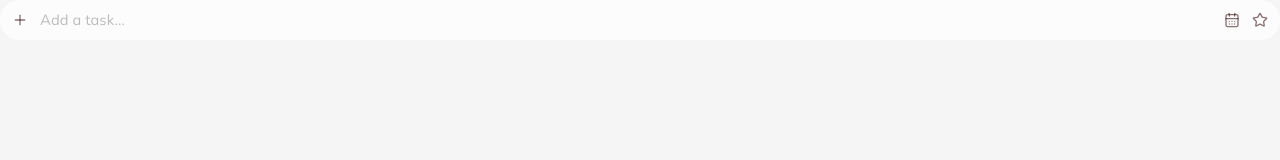
it: QuickAddTask › toggles star state
Later steps or results of the test are not shown.
Click the button named "Star task" at [1260, 20], box [1248,8,1272,32]
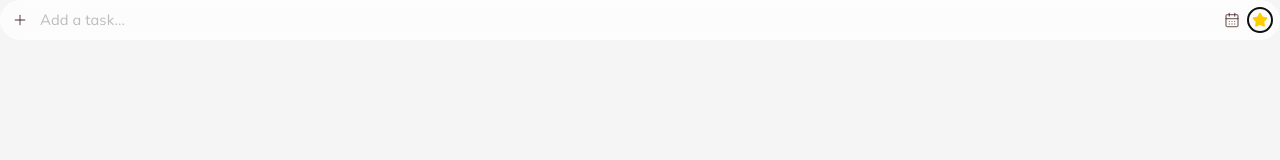
Now the button named "Unstar task" is shown, box [1248,8,1272,32]
